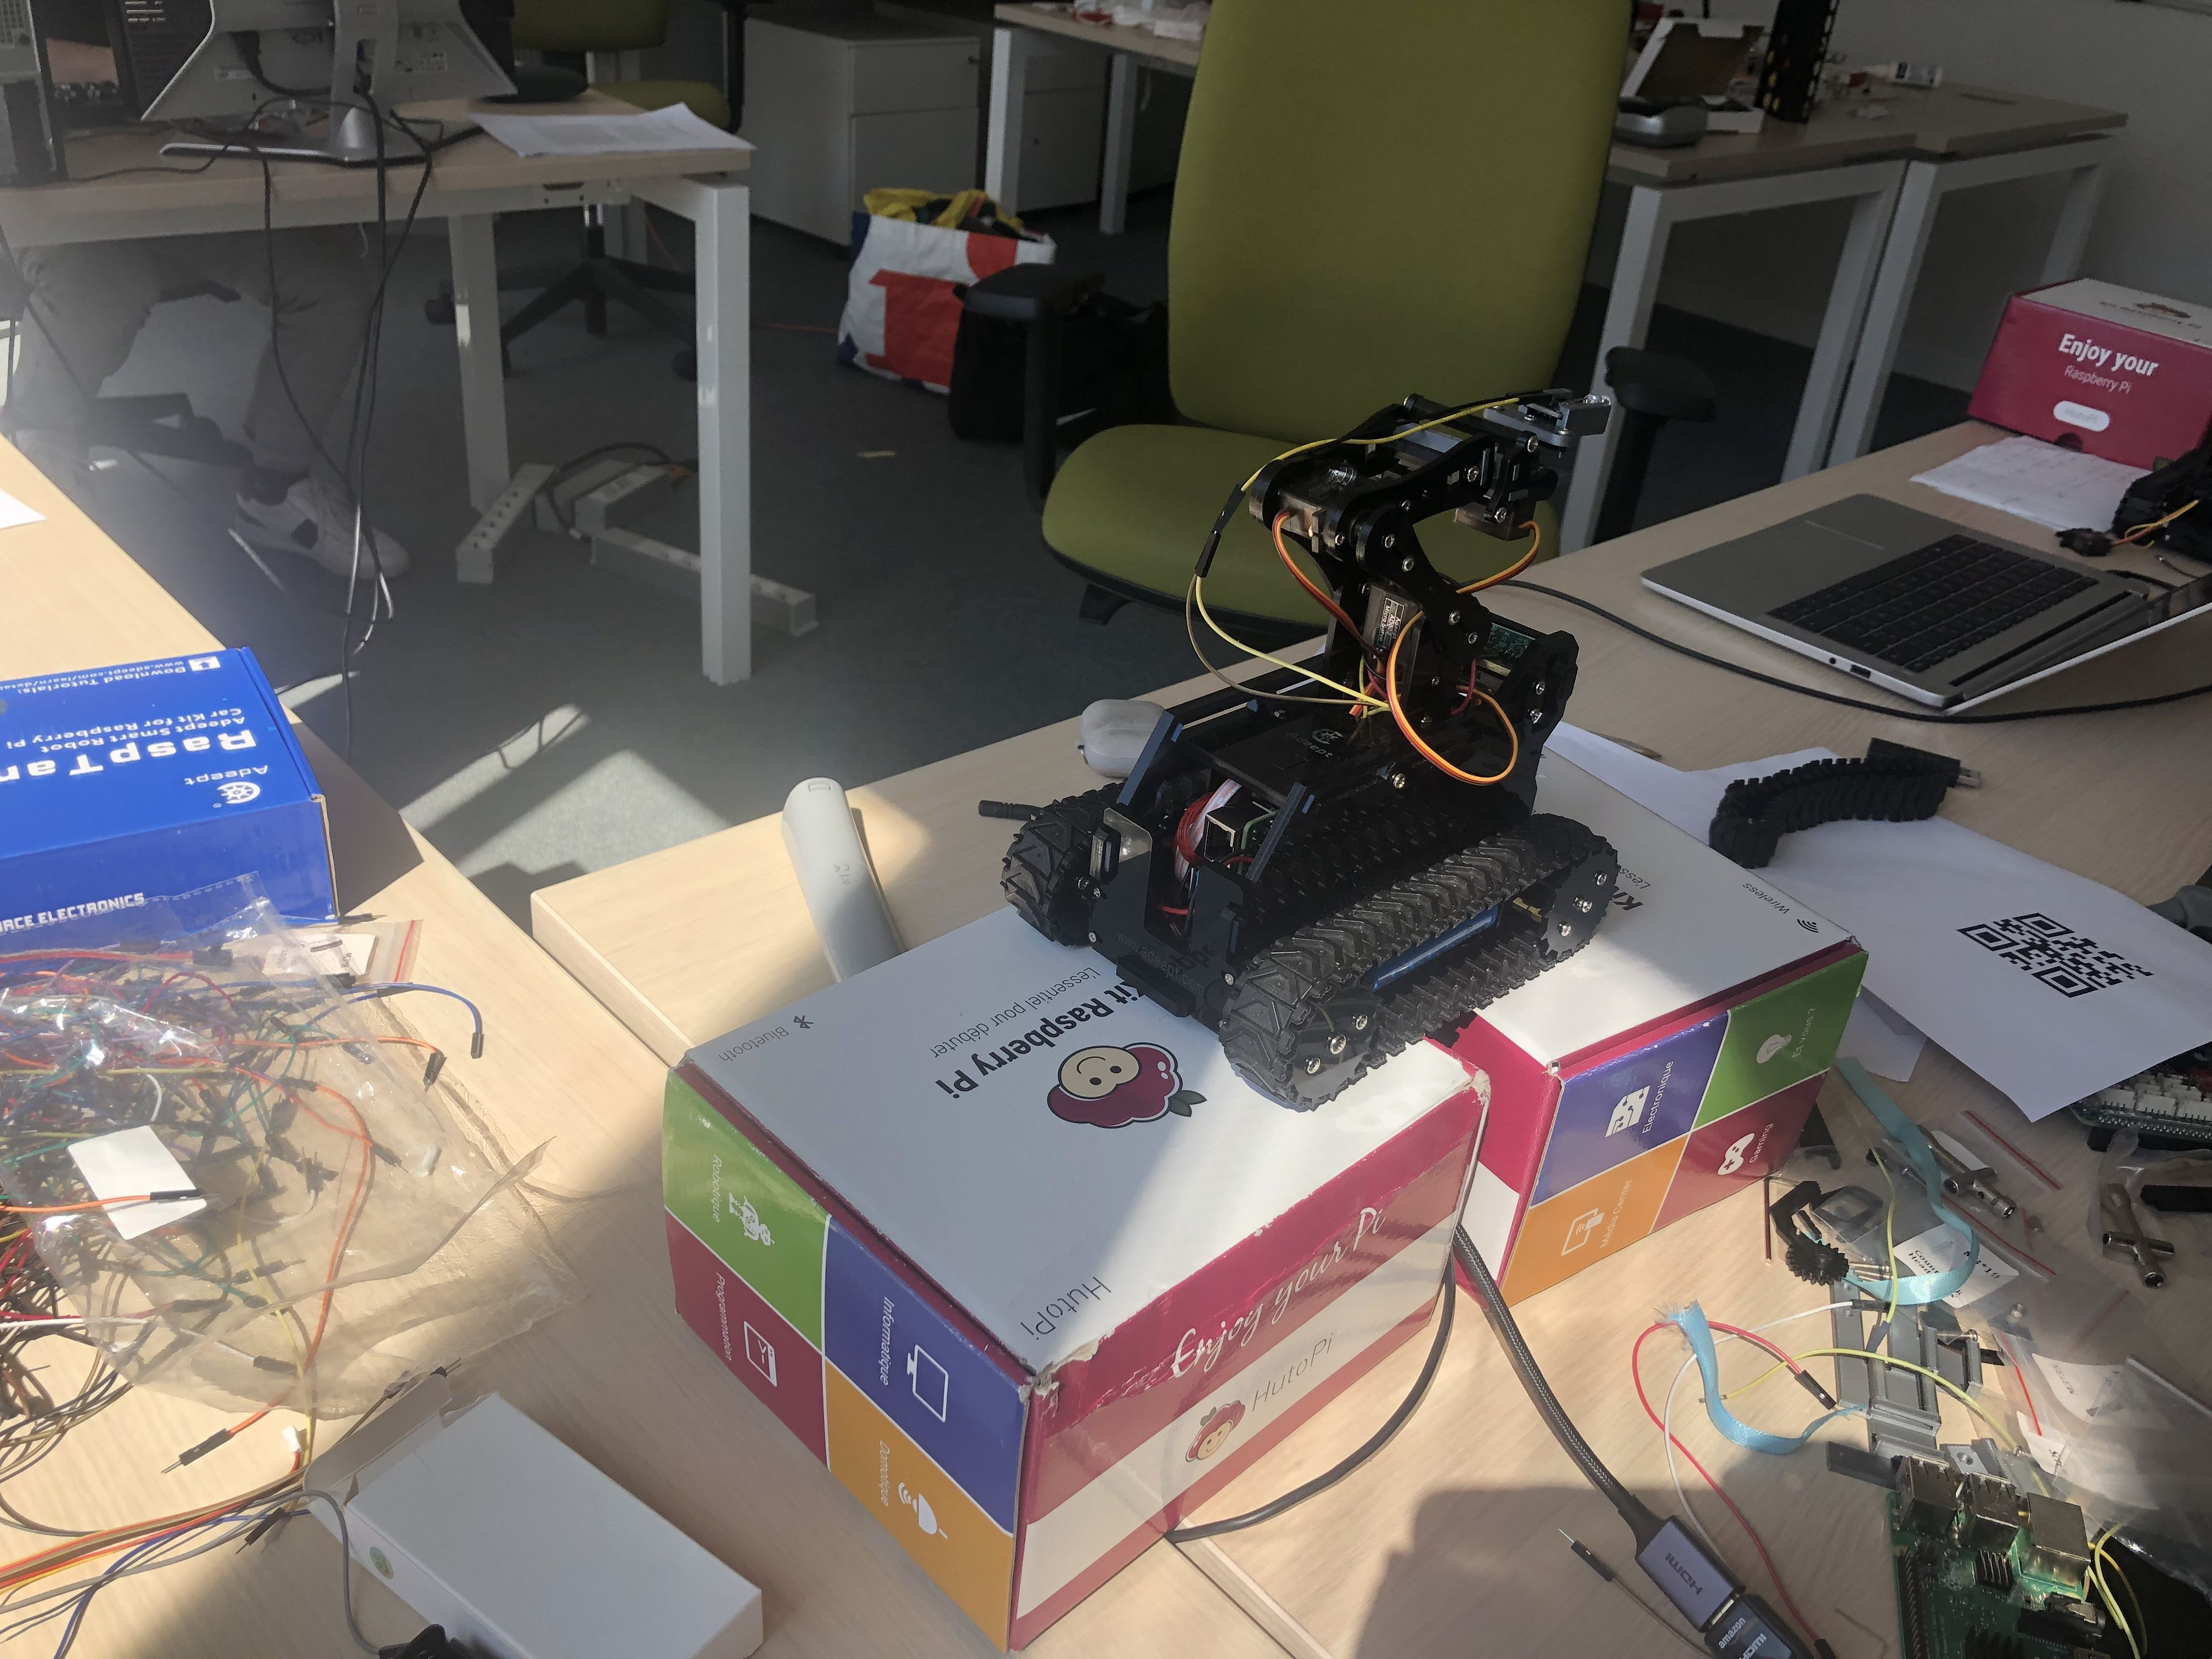rasptank: (996, 373, 1667, 1105)
